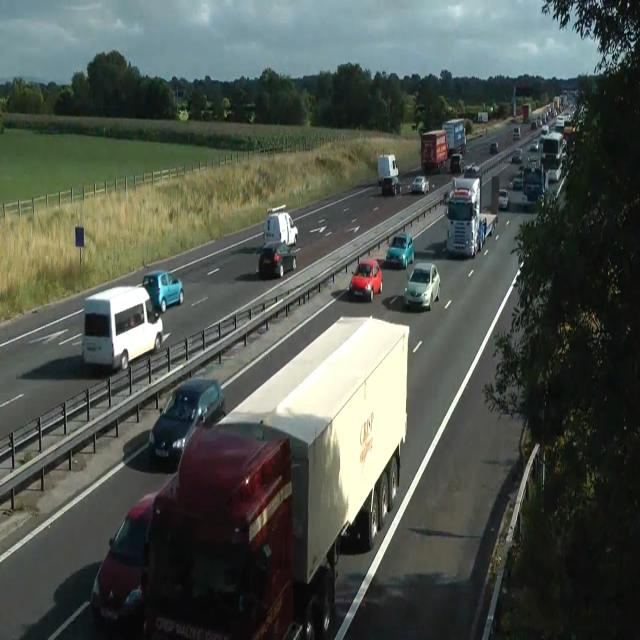bus: (90, 492, 158, 628), (148, 377, 226, 469), (404, 262, 441, 310), (348, 258, 382, 302), (258, 240, 296, 279), (386, 232, 414, 269), (381, 176, 401, 196), (411, 175, 429, 194), (527, 154, 541, 170), (498, 188, 508, 209), (464, 163, 479, 176), (511, 148, 523, 162), (512, 174, 522, 190), (178, 108, 189, 121), (530, 137, 540, 150), (490, 141, 498, 154), (512, 126, 520, 139), (530, 119, 536, 130)
jeep: (81, 284, 163, 372), (141, 269, 184, 312)
minibus: (141, 314, 409, 639), (445, 172, 499, 258), (264, 205, 298, 247), (541, 131, 567, 182), (442, 119, 466, 172), (420, 129, 448, 173), (377, 154, 401, 196), (522, 104, 530, 123), (477, 112, 488, 123)
